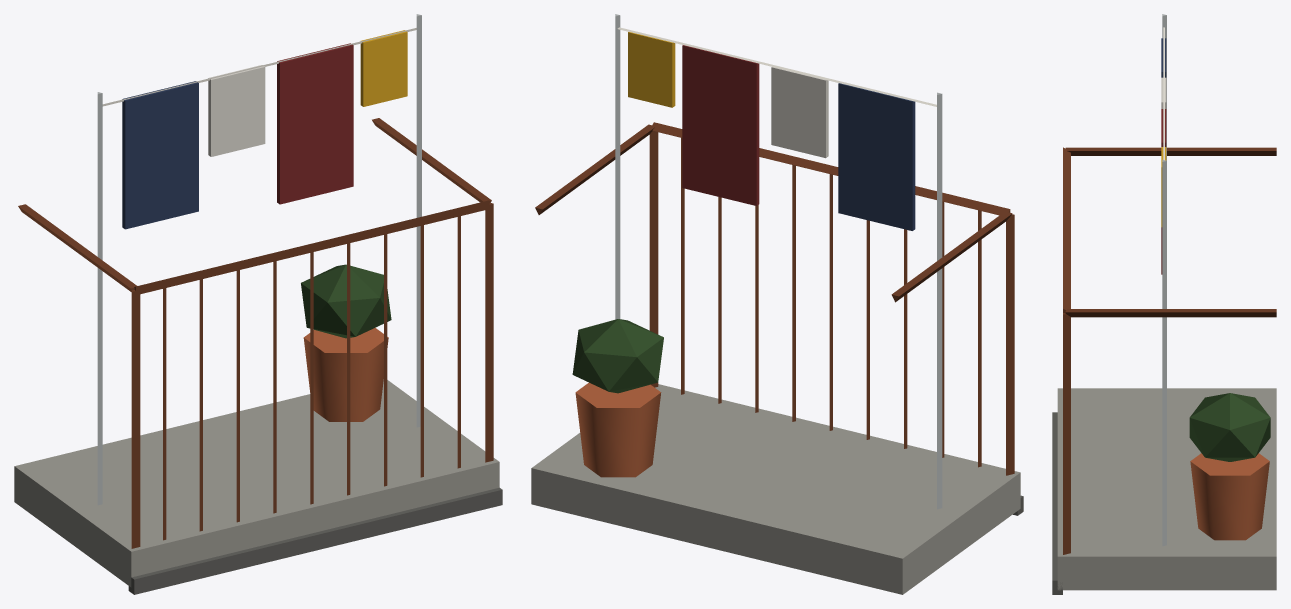
The model's file is balcony_laundry.glb.
3 views of the same model, side by side, from view 1: azimuth 30°, elevation 25°; view 2: azimuth 150°, elevation 25°; view 3: azimuth 270°, elevation 25° (orthographic). The views are drawn at different scales.
Parts seen in each view (by area): view 1: balcony_laundry; view 2: balcony_laundry; view 3: balcony_laundry.
Boxes of the visible parts, x1,y1,x2,y2 form: balcony_laundry: (14,14,502,594); balcony_laundry: (531,14,1023,594); balcony_laundry: (1052,14,1276,594).
Size of the model in its own units: 1.5 by 1.76 by 0.845.
1 material, 1 textured.
